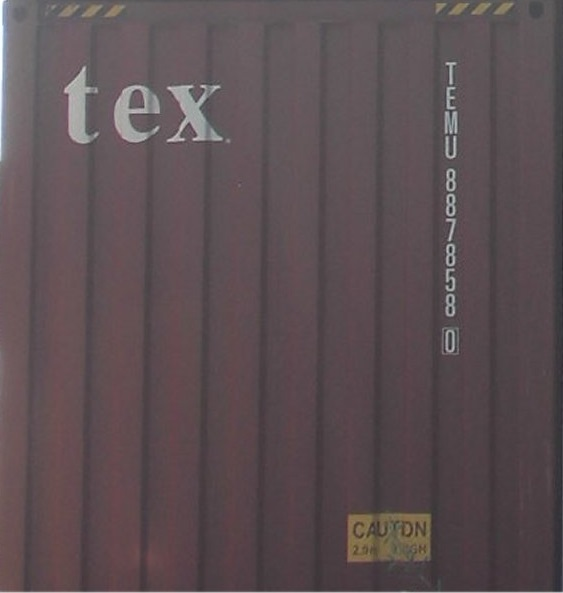container_no_door: (6, 1, 548, 589)
